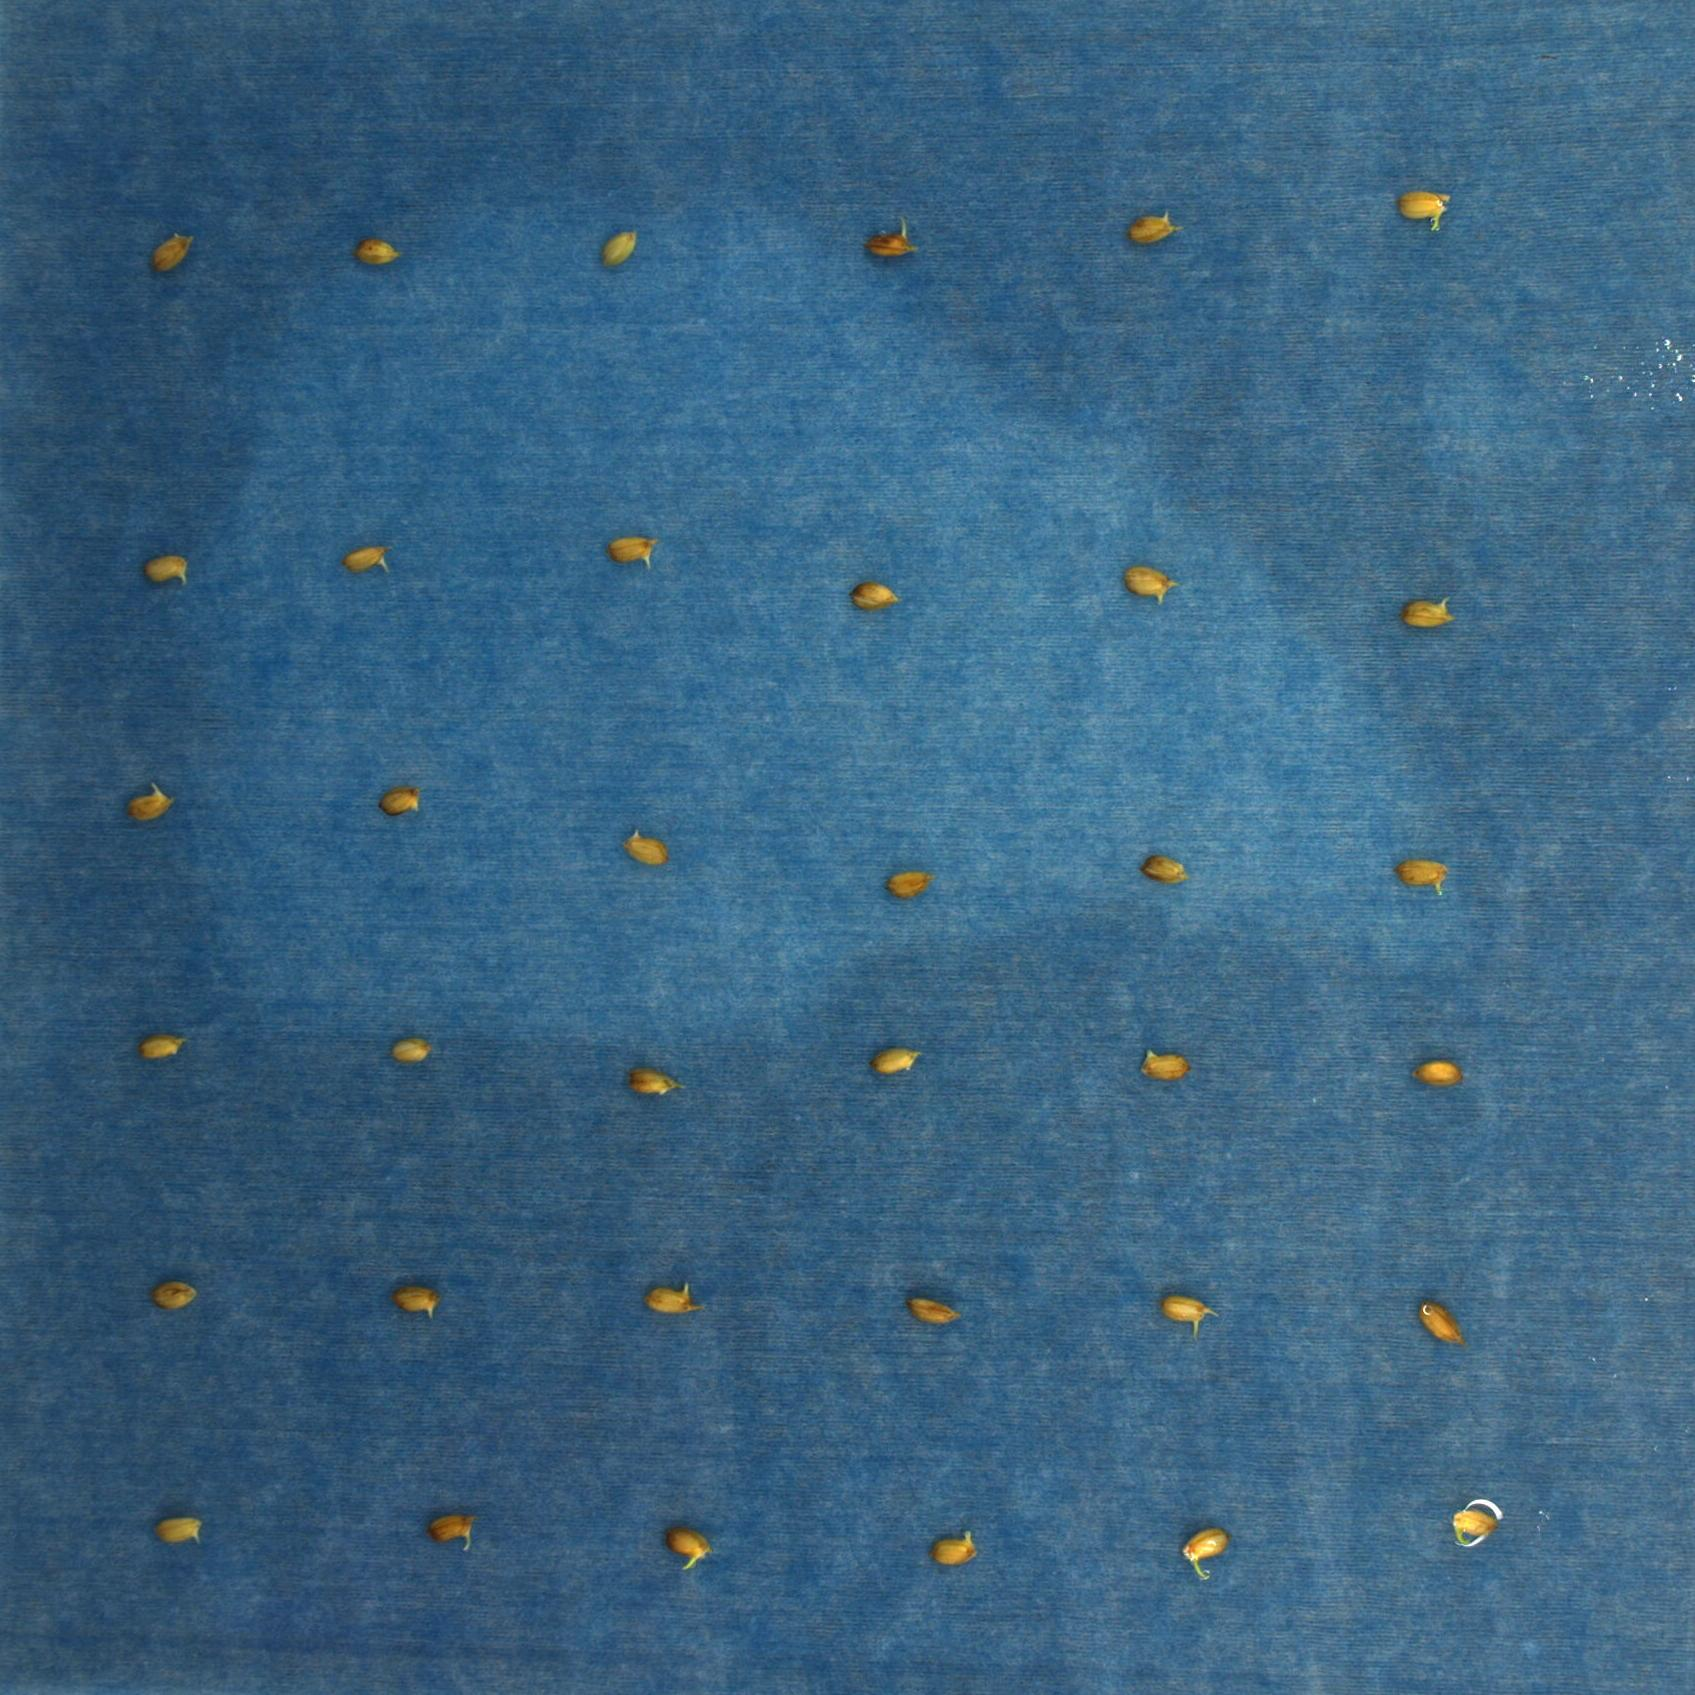not sprout: (1121, 559, 1181, 613), (424, 1499, 473, 1551), (868, 214, 924, 258), (1163, 1290, 1218, 1333), (1395, 185, 1451, 227), (618, 823, 667, 869), (1402, 594, 1461, 632), (604, 529, 657, 570), (1125, 208, 1177, 248), (619, 1063, 678, 1097), (386, 1279, 442, 1315), (1183, 1530, 1229, 1572), (126, 779, 174, 820), (1423, 1301, 1464, 1349), (1409, 1057, 1464, 1093), (647, 1281, 703, 1315), (1135, 849, 1187, 885), (900, 1296, 961, 1327), (866, 1042, 924, 1074), (927, 1526, 975, 1565), (1135, 1049, 1189, 1083), (351, 236, 410, 267), (847, 577, 899, 613), (341, 539, 393, 574), (1397, 855, 1450, 889), (137, 546, 188, 581), (599, 230, 638, 275), (386, 1032, 438, 1065), (149, 1279, 200, 1312), (147, 233, 194, 269), (154, 1513, 205, 1544), (882, 869, 934, 899), (380, 781, 425, 815), (1450, 1510, 1495, 1543), (137, 1031, 185, 1059), (672, 1532, 706, 1569)
